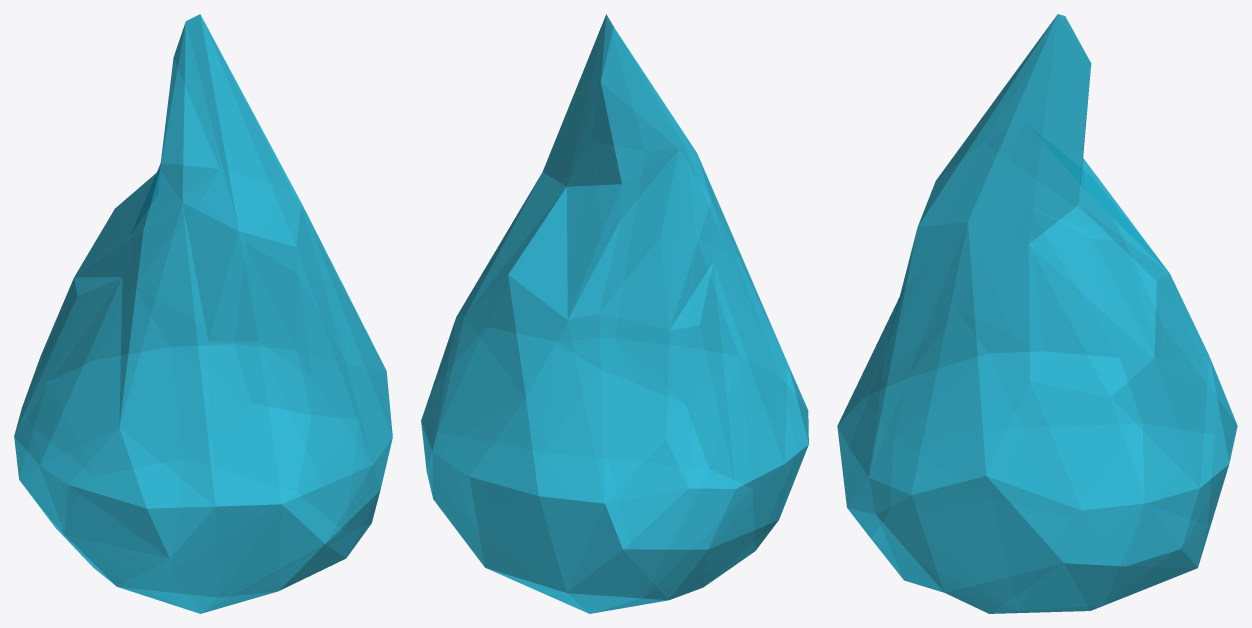
File: tear.gltf
3 renders of one model, left to right at view 1: azimuth 30°, elevation 25°; view 2: azimuth 150°, elevation 25°; view 3: azimuth 270°, elevation 25°, orthographic. The views are drawn at different scales.
Parts seen in each view (by area): view 1: Mesh_0.001; view 2: Mesh_0.001; view 3: Mesh_0.001.
Part boxes in pixels (<box>): Mesh_0.001: <box>14,14,392,613</box>; Mesh_0.001: <box>421,14,808,613</box>; Mesh_0.001: <box>837,14,1237,613</box>.
Bounding box in the file's own units: 16.85 × 28.36 × 16.98.
Materials: 1 (1 with a texture image).
